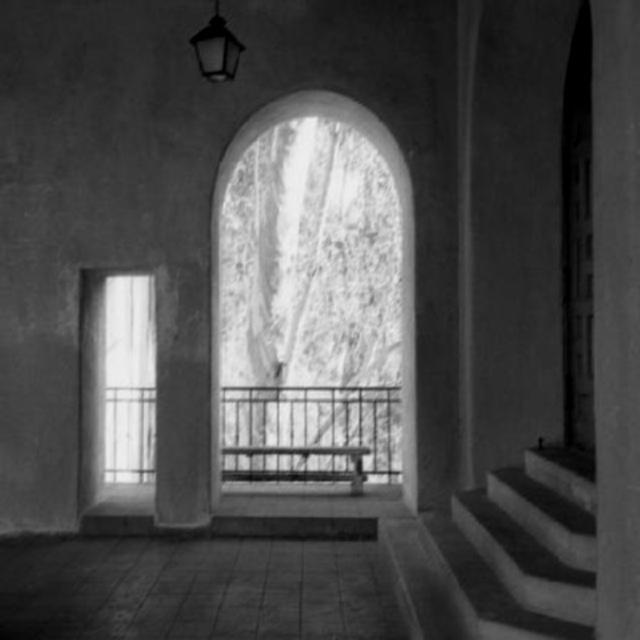stair: (378, 440, 598, 638)
